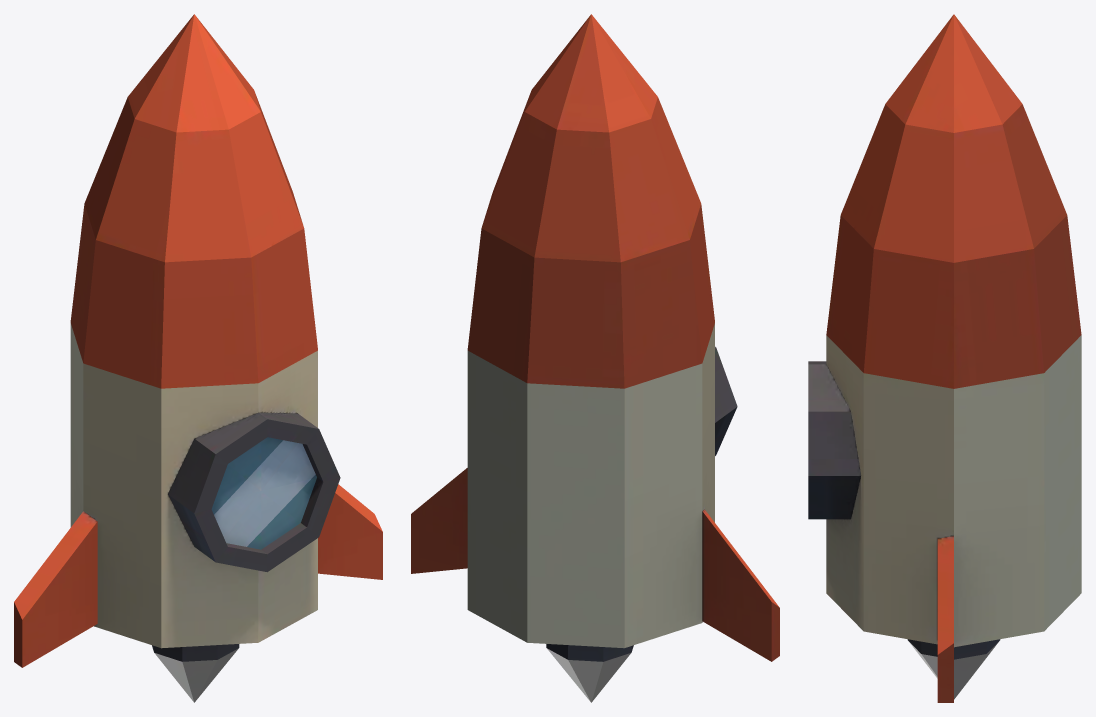
File: 8iKIYCyvh2k.glb
3 renders of one model, left to right at view 1: azimuth 30°, elevation 25°; view 2: azimuth 150°, elevation 25°; view 3: azimuth 270°, elevation 25°, orthographic.
Visible parts, largest first — view 1: rocket_ship; view 2: rocket_ship; view 3: rocket_ship.
Part boxes in pixels (left/top/right/bottom): rocket_ship: left=14, top=14, right=382, bottom=702; rocket_ship: left=411, top=14, right=779, bottom=702; rocket_ship: left=808, top=14, right=1081, bottom=702.
Bounding box in the file's own units: 0.5478 × 1 × 0.3609.
1 material, 1 textured.
